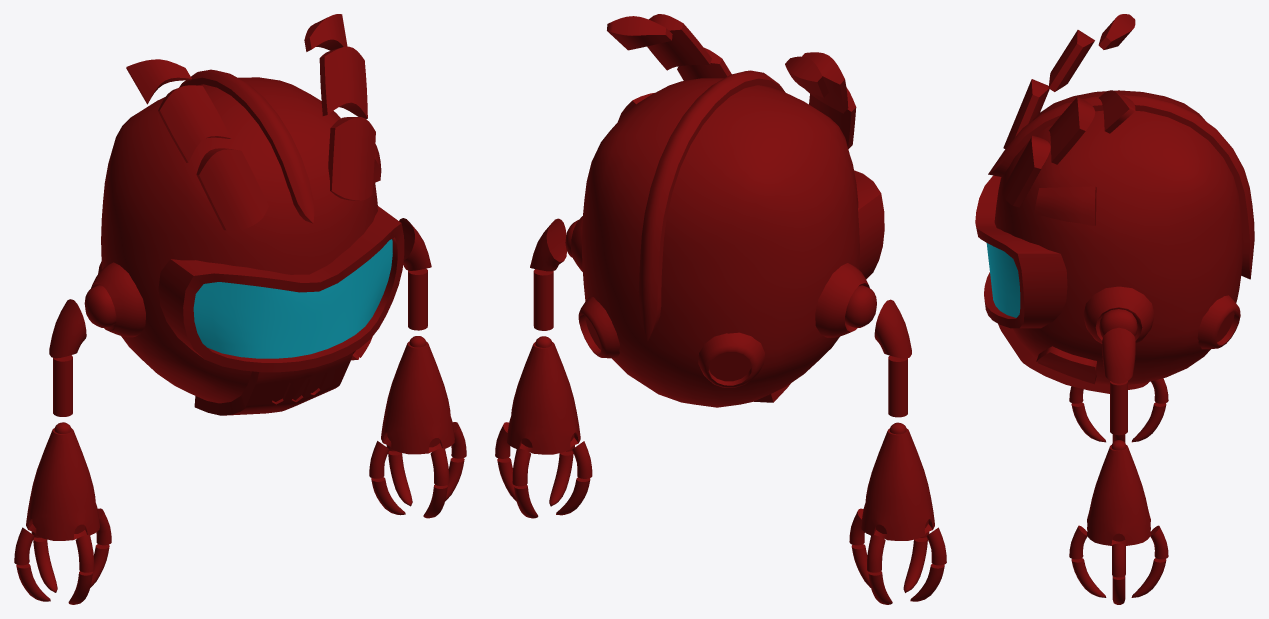
The model's file is Robot.fbx.
3 renders of one model, left to right at view 1: azimuth 30°, elevation 25°; view 2: azimuth 150°, elevation 25°; view 3: azimuth 270°, elevation 25°, orthographic. The views are drawn at different scales.
Visible parts, largest first — view 1: Robot; view 2: Robot; view 3: Robot.
Boxes of the visible parts, x1,y1,x2,y2 form: Robot: (14, 14, 466, 604); Robot: (495, 14, 946, 604); Robot: (975, 14, 1254, 604).
Size of the model in its own units: 9.68 by 10.63 by 5.78.
